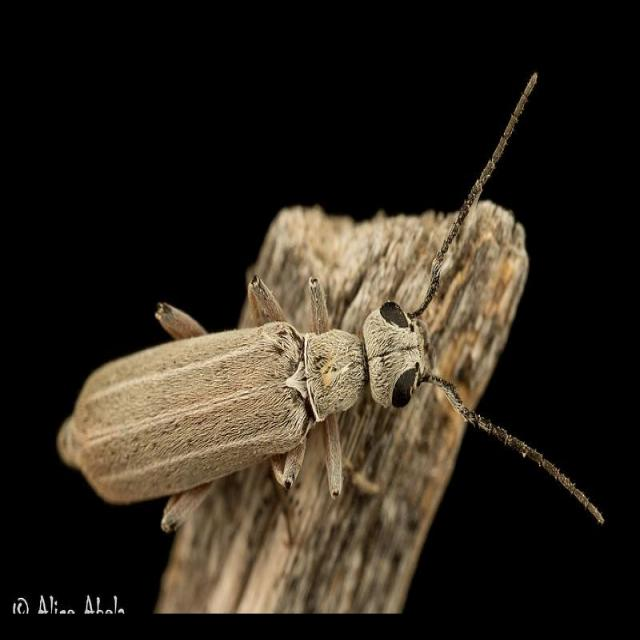BlisterBeetle-Adult-: (43, 71, 610, 543)
